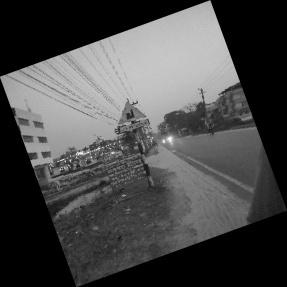Mosque in front: (113, 93, 152, 140)
